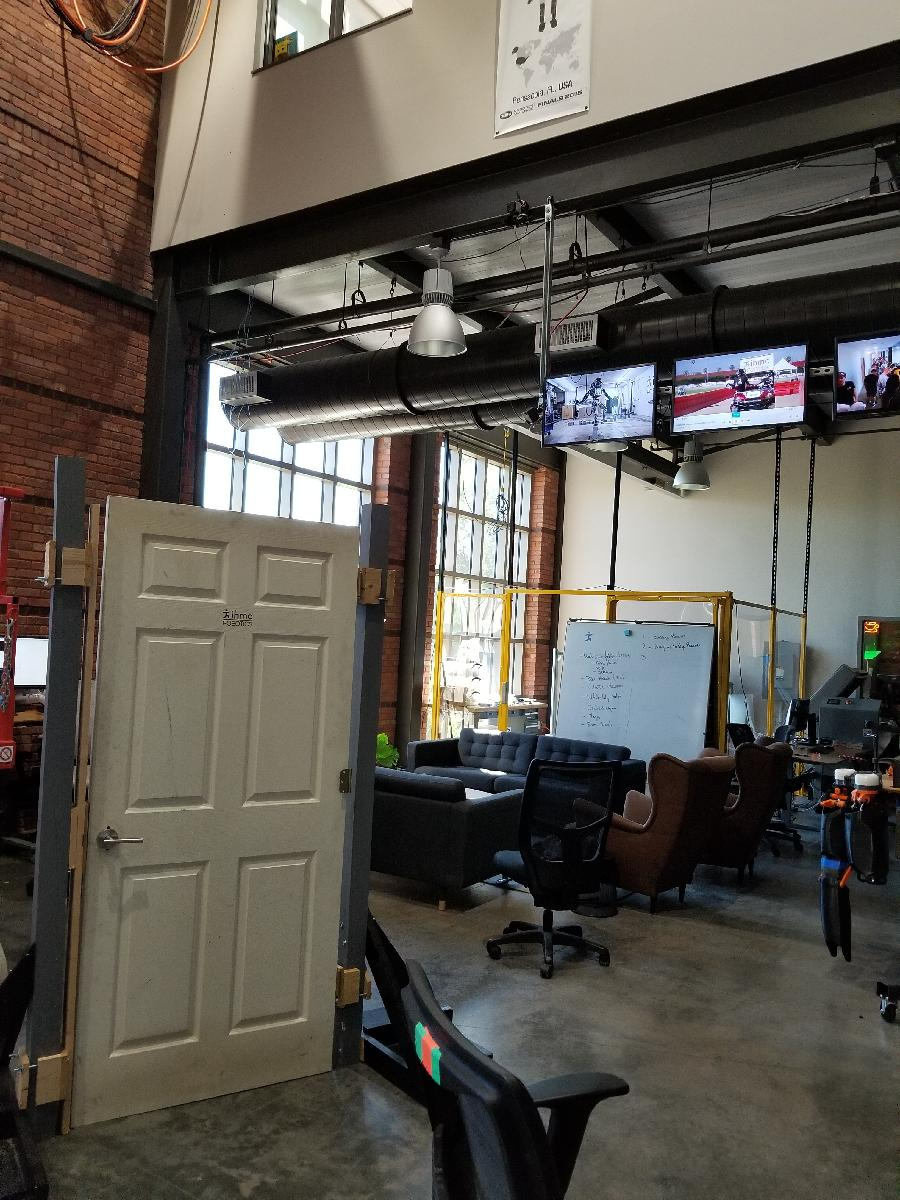door: (67, 492, 363, 1133)
doorHandle: (93, 824, 151, 853)
